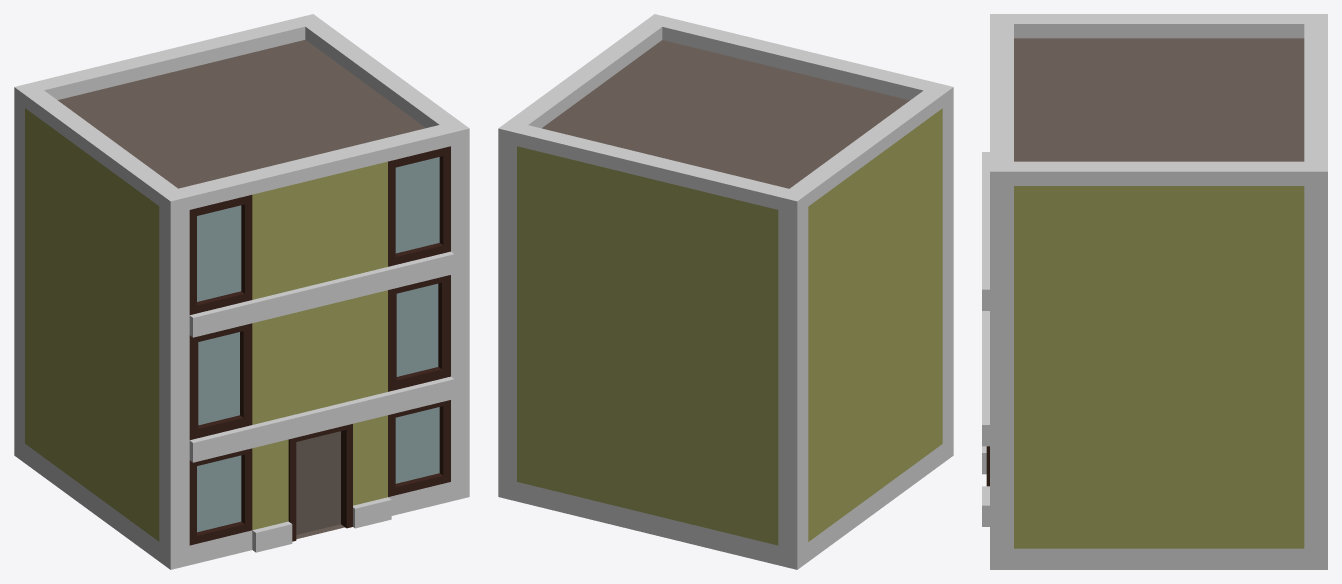
The model's file is myellow.fbx.
3 renders of one model, left to right at view 1: azimuth 30°, elevation 25°; view 2: azimuth 150°, elevation 25°; view 3: azimuth 270°, elevation 25°, orthographic. The views are drawn at different scales.
Visible parts, largest first — view 1: pCube1; view 2: pCube1; view 3: pCube1.
Boxes of the visible parts, left/top/right/bottom form: pCube1: left=14, top=14, right=469, bottom=569; pCube1: left=498, top=14, right=953, bottom=569; pCube1: left=982, top=14, right=1327, bottom=569.
Size of the model in its own units: 23.78 by 28 by 22.04.
